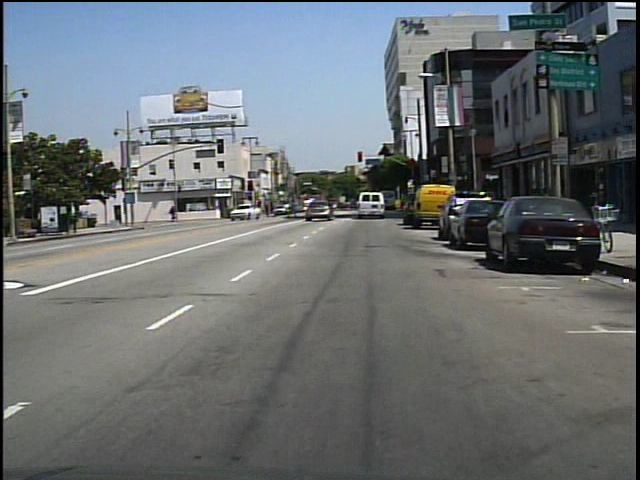person: (289, 194, 303, 224), (172, 204, 178, 223)
